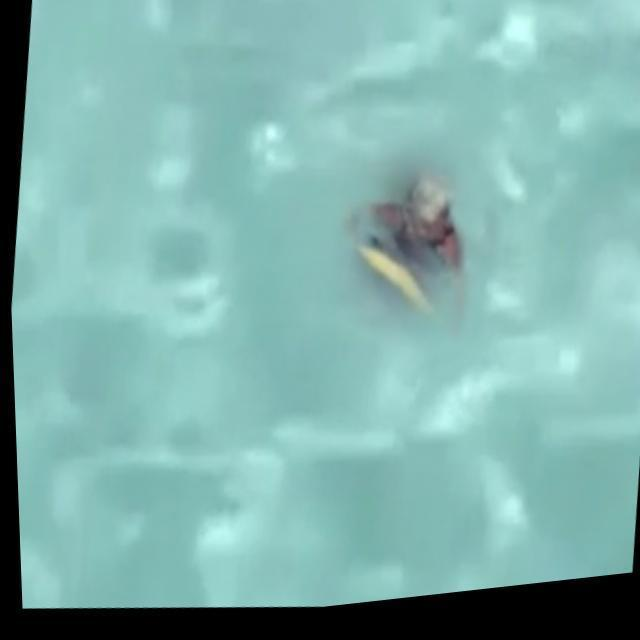swimming: (325, 150, 482, 335)
